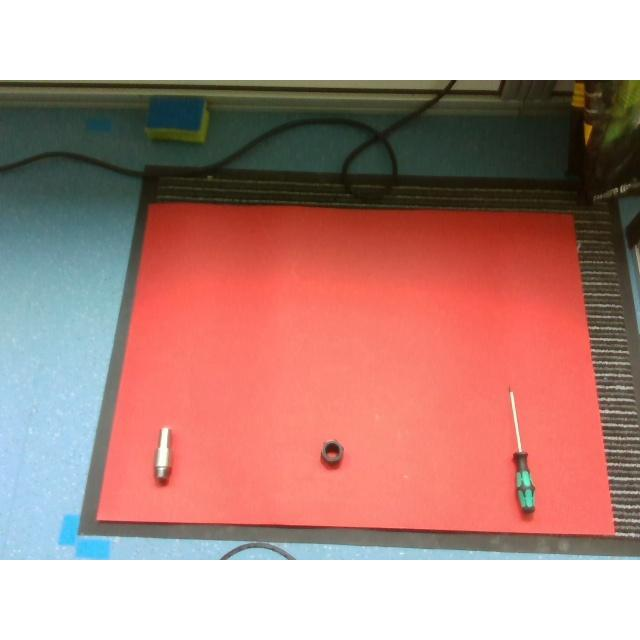Axis2: (153, 428, 171, 482)
M20: (321, 441, 344, 467)
Screwdriver: (508, 385, 536, 511)
